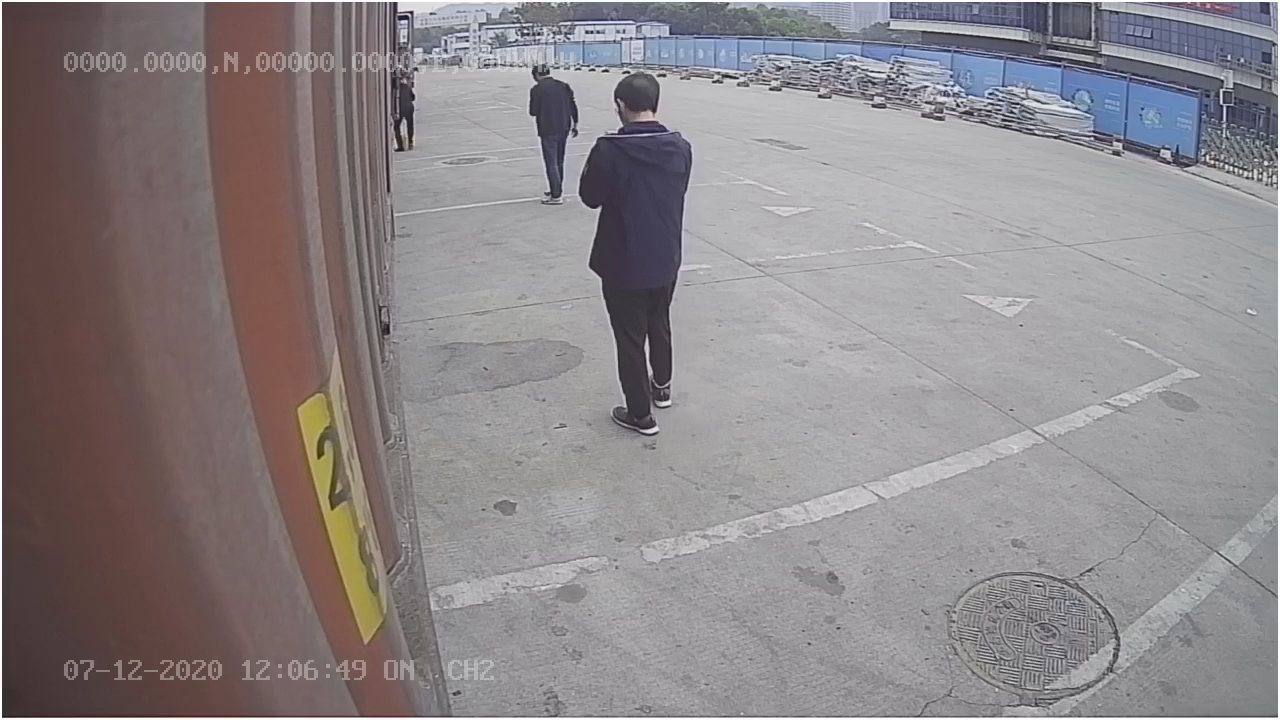person: (578, 65, 692, 435)
